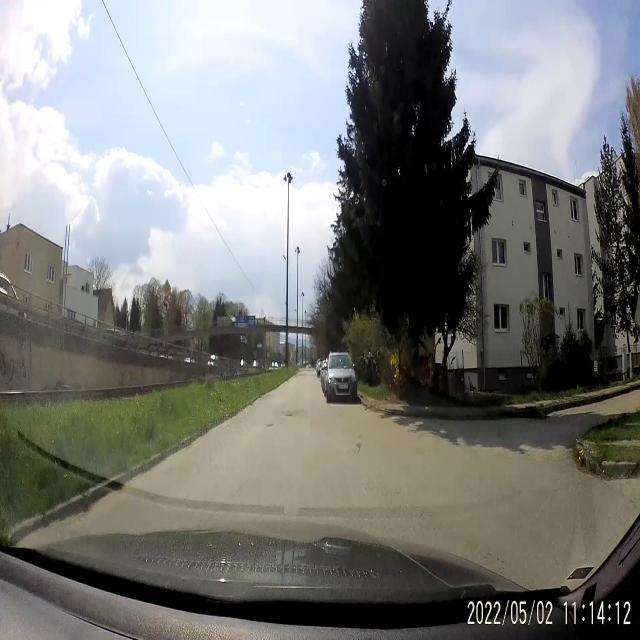Pothole: (264, 418, 278, 432), (354, 438, 364, 457), (284, 406, 296, 419)
